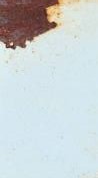Corrosion: (1, 1, 61, 51)
